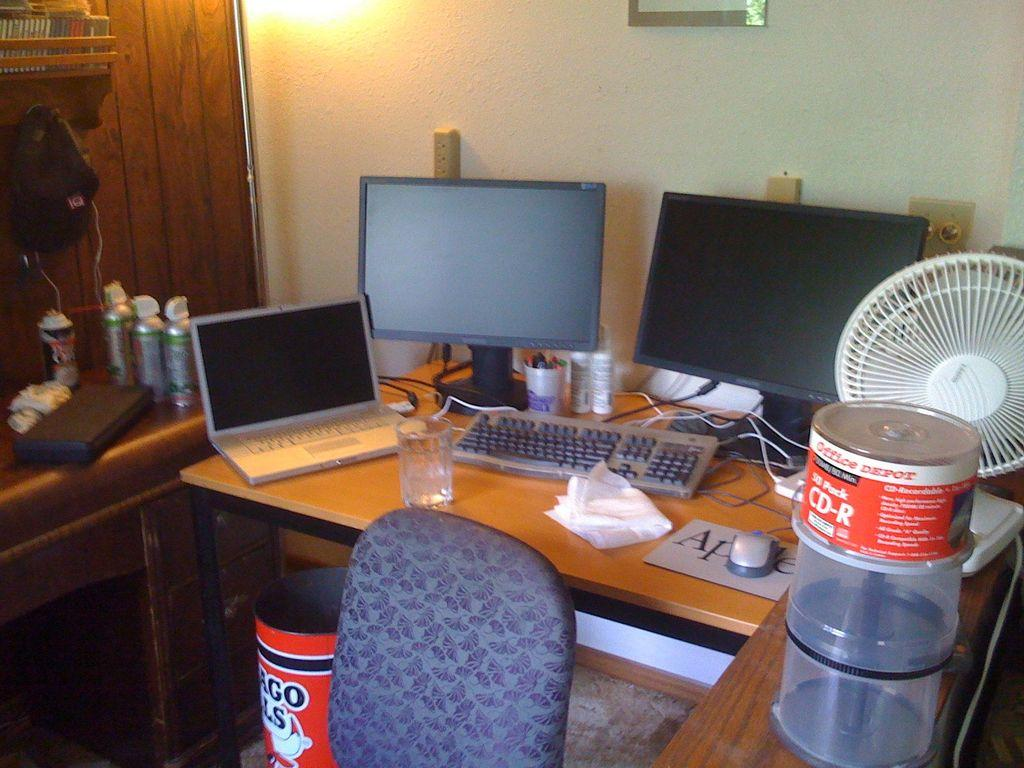Chair: (310, 521, 597, 767)
Laptop: (186, 290, 429, 486)
